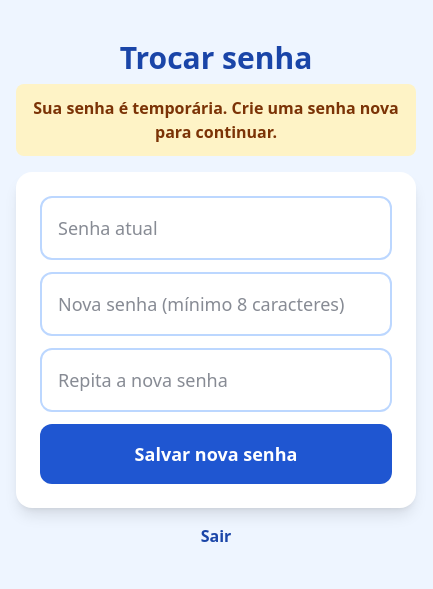
Test: troca de senha › senha atual errada: mostra o erro e não troca
This screenshot has width=433, height=589.
Type "errada-123" into the password field labelled "Senha atual" at [216, 228], box [40,196,392,260]
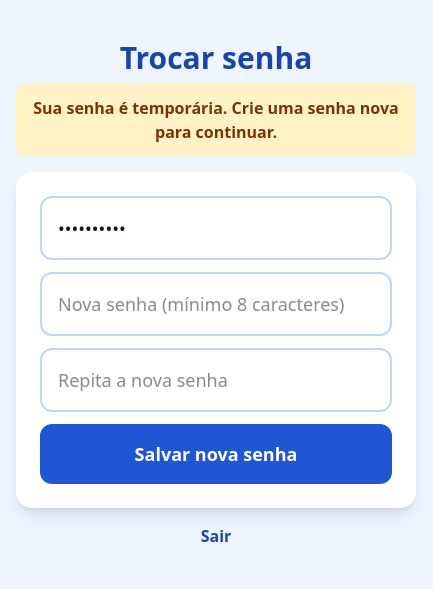
Type "senha-nova-1" into the password field labelled "Nova senha" at [216, 304], box [40,272,392,336]
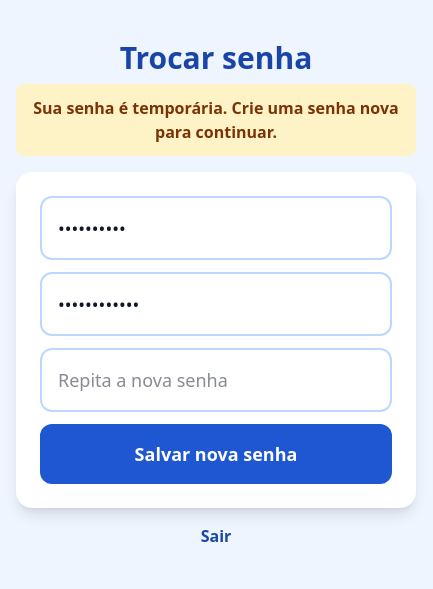
Type "senha-nova-1" into the password field named "Confirmar nova senha" at [216, 380], box [40,348,392,412]
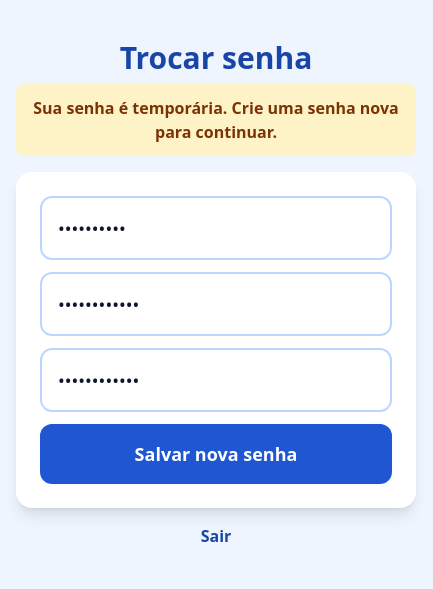
Click the button "Salvar nova senha" at [216, 454], box [40,424,392,484]
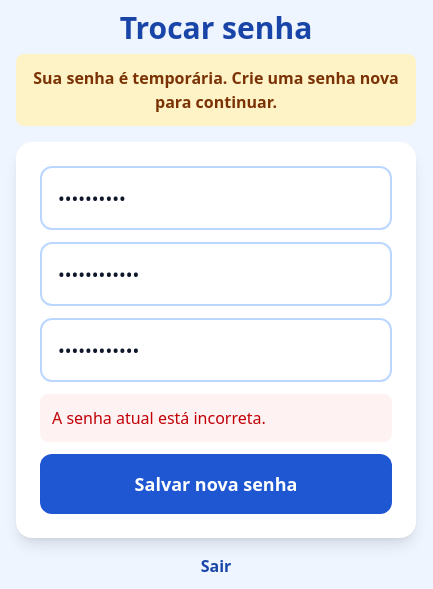
Result: the message shows "senha atual está incorreta" at [52,407,266,429]
